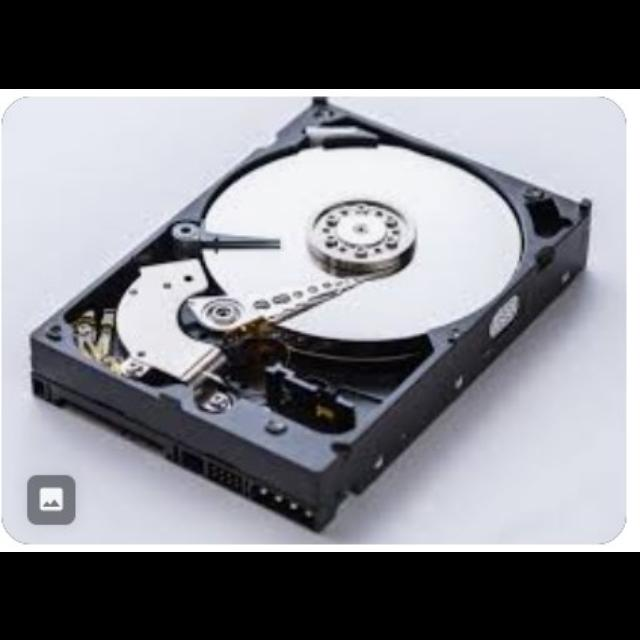HDD: (29, 97, 595, 541)
